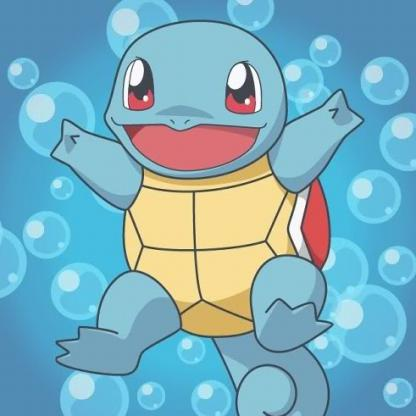Squirtle: (33, 20, 355, 416)
